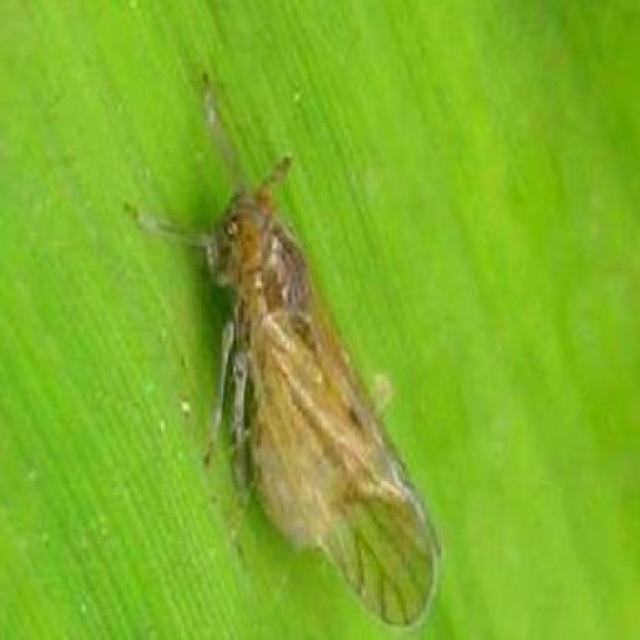brown-planthopper: (158, 158, 439, 633)
